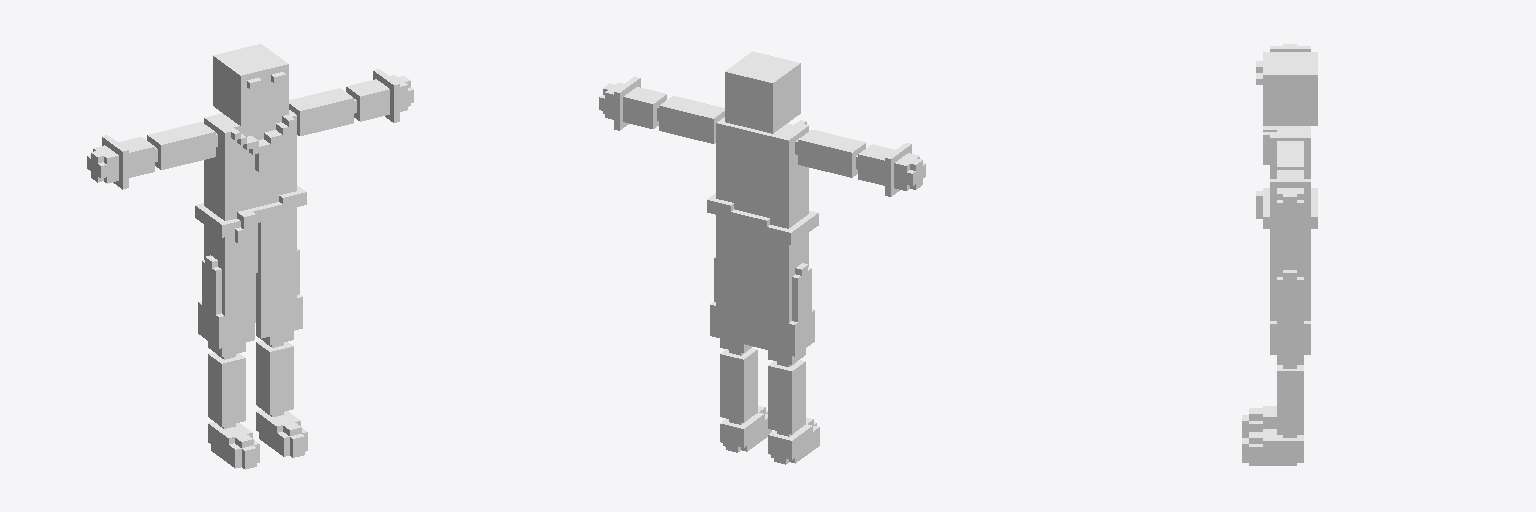
Rendered from ShadyMcShadyface.obj.
3 views of the same model, side by side, from view 1: azimuth 30°, elevation 25°; view 2: azimuth 150°, elevation 25°; view 3: azimuth 270°, elevation 25° (orthographic).
Visible parts, largest first — view 1: ShadyMcShadyface; view 2: ShadyMcShadyface; view 3: ShadyMcShadyface.
Boxes of the visible parts, <box> form: ShadyMcShadyface: <box>87,44,413,469</box>; ShadyMcShadyface: <box>599,51,925,464</box>; ShadyMcShadyface: <box>1242,44,1317,465</box>.
Bounding box in the file's own units: 52 × 61 × 11.